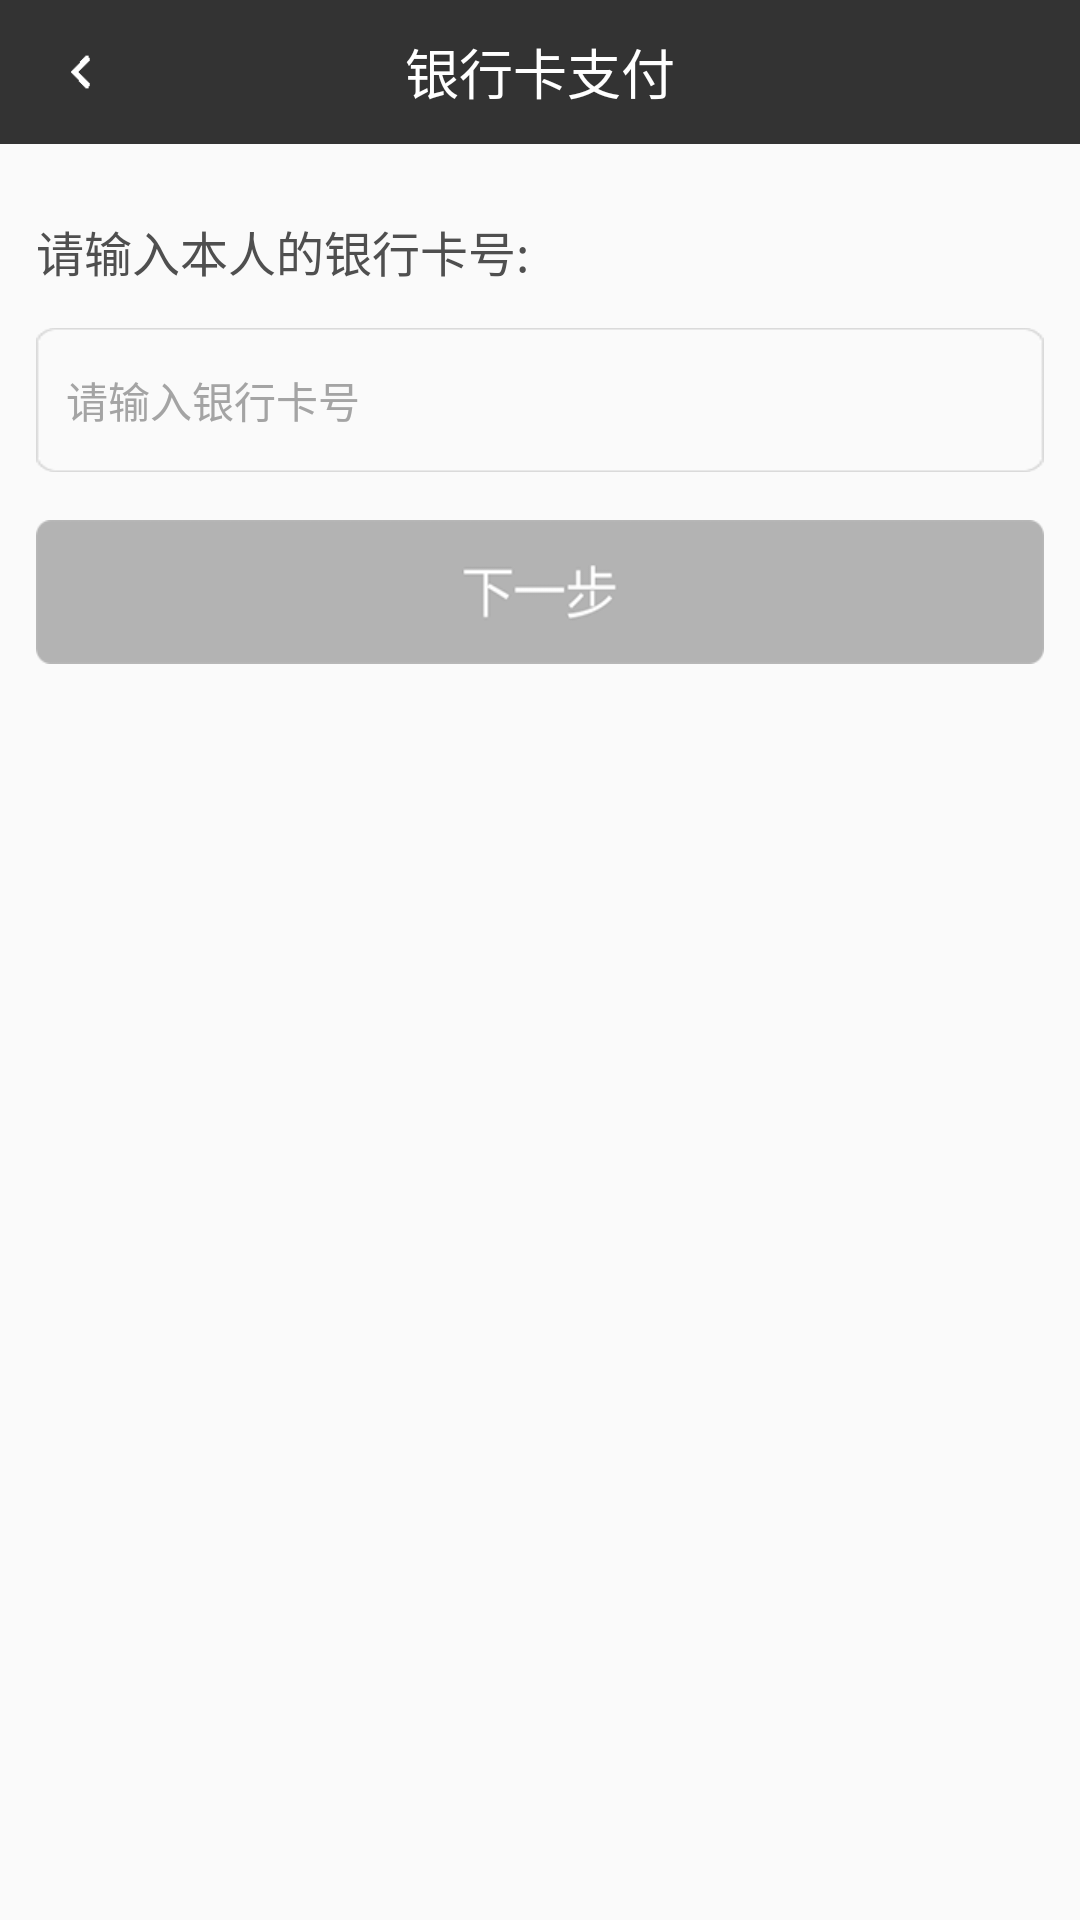

Icons on this 1080x1920 Android screen, each with its box as (x1, y1, x2, y2):
lepay back: (71, 55, 90, 89)
